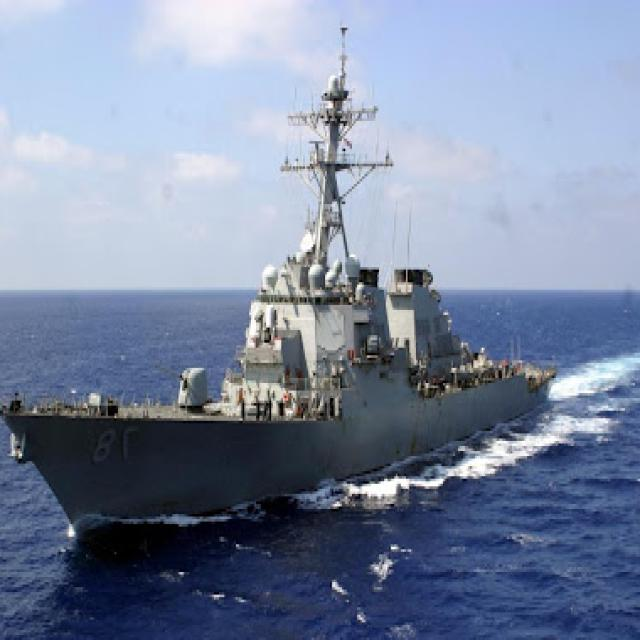navalvessels: (0, 55, 561, 547)
